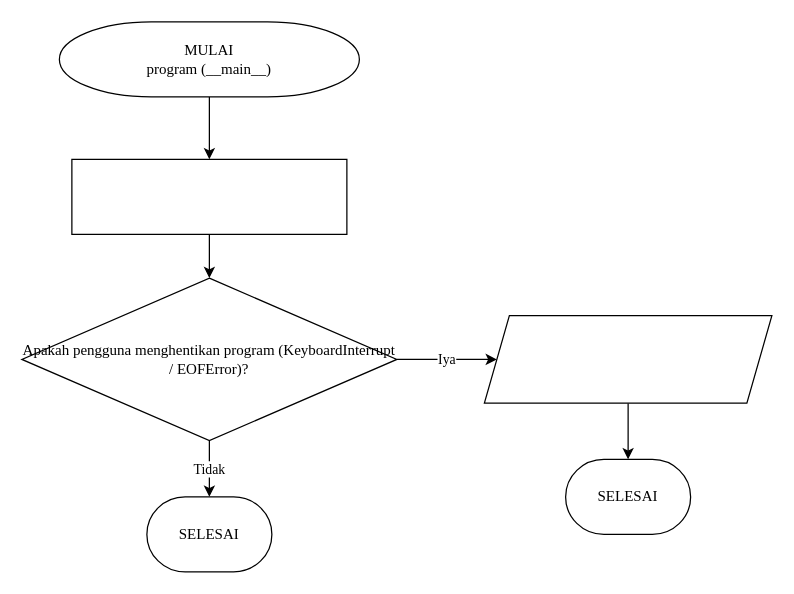
The diagram is 794 pixels wide and 594 high, and some of its shapes have lost their labels. The shapes that lost their labels are listed below. From the top down, each one's box as (x1, y1, x2, y2) in pixels, then its label:
(71, 158, 347, 234): Jalankan main()
(483, 314, 772, 403): Output "Program dihentikan pengguna."
